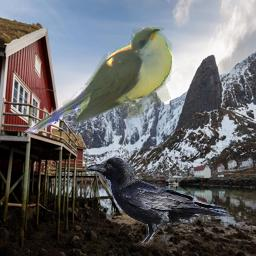Crow: (85, 157, 230, 247)
Cuckoo: (22, 27, 172, 134)
